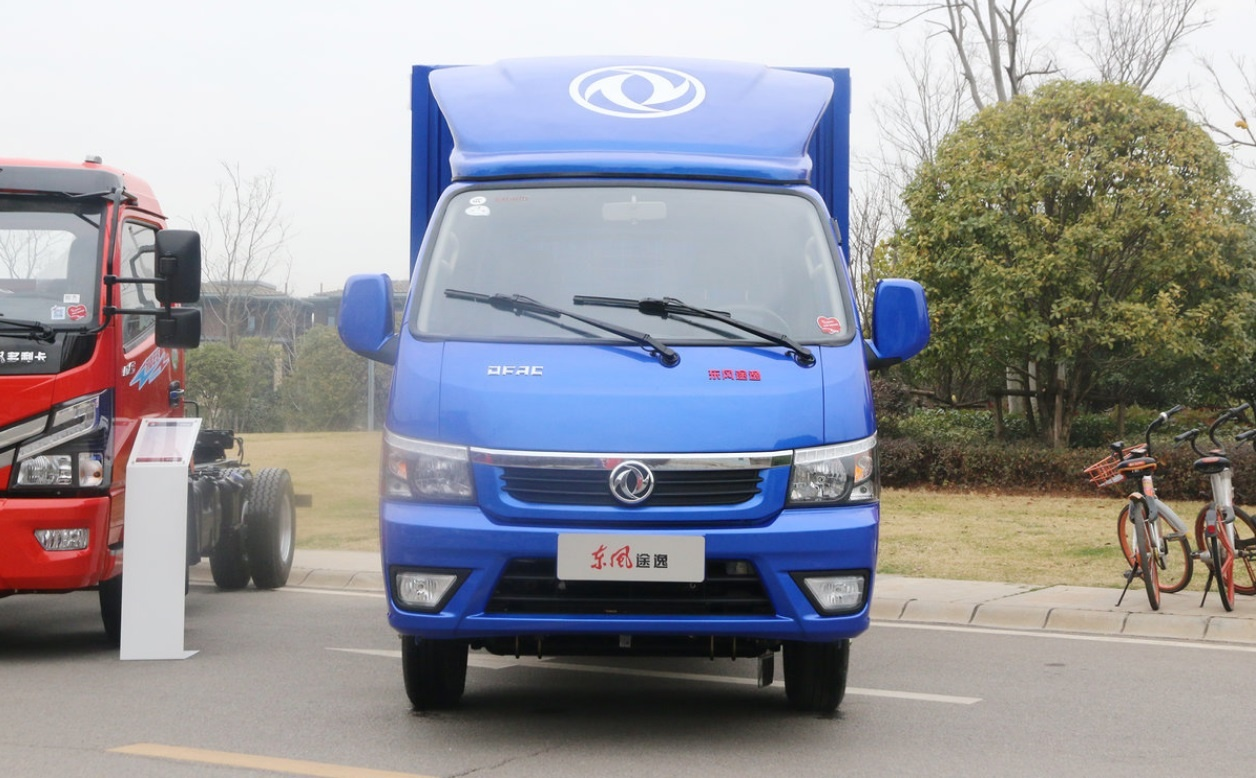truck: (335, 45, 930, 722)
